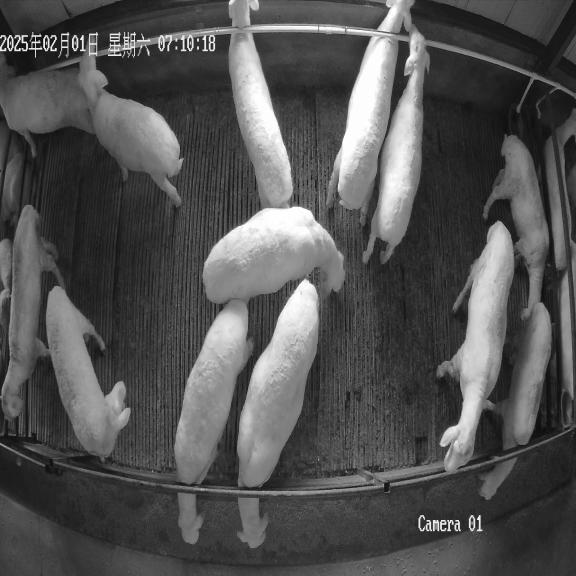eating: (237, 279, 319, 548), (174, 300, 252, 544), (478, 302, 551, 500)
stand: (326, 0, 414, 225), (437, 221, 514, 472), (78, 34, 183, 206), (362, 24, 429, 264), (46, 286, 130, 462), (202, 206, 344, 304), (2, 206, 65, 419), (228, 0, 292, 207), (483, 135, 549, 318), (0, 54, 95, 157)
